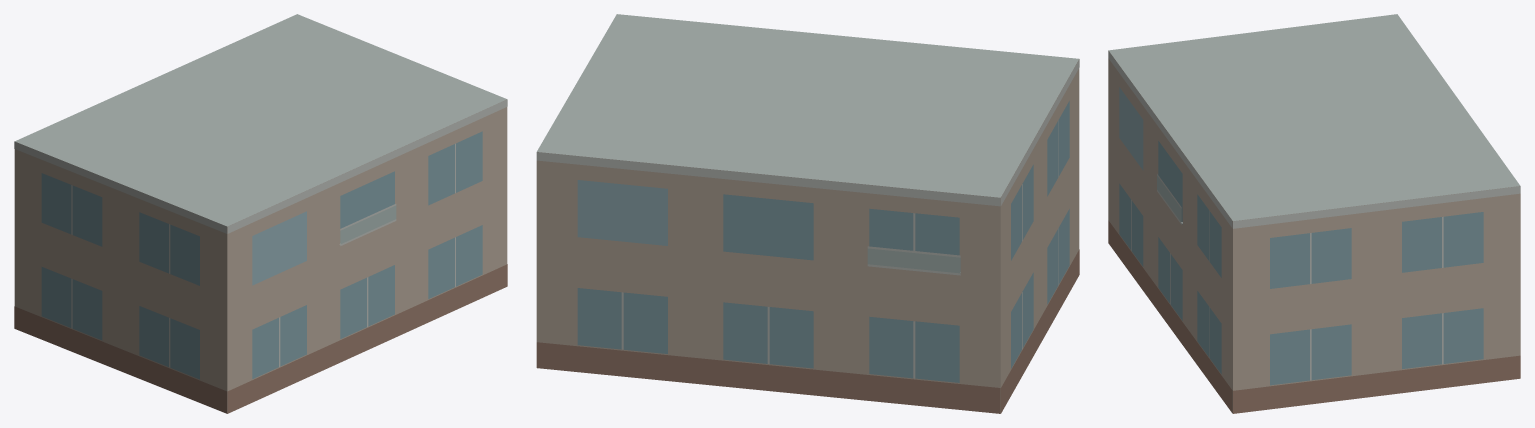
Rendered from survey-upis-32721856.glb.
The picture shows the model from 3 angles, left to right: view 1: azimuth 30°, elevation 25°; view 2: azimuth 150°, elevation 25°; view 3: azimuth 270°, elevation 25°; orthographic projection. The views are drawn at different scales.
Visible parts, largest first — view 1: survey-upis-32721856.tmp; view 2: survey-upis-32721856.tmp; view 3: survey-upis-32721856.tmp.
Part boxes in pixels (x1=…): survey-upis-32721856.tmp: x1=14, y1=14, x2=507, y2=413; survey-upis-32721856.tmp: x1=536, y1=14, x2=1079, y2=413; survey-upis-32721856.tmp: x1=1108, y1=14, x2=1520, y2=413.
Size of the model in its own units: 14.08 by 6.1 by 11.84.
